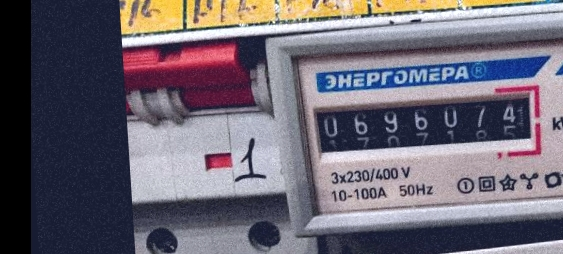0: (320, 112, 341, 137), (442, 103, 460, 129)
4: (500, 99, 517, 122)
5: (503, 124, 519, 140)
6: (413, 104, 432, 132), (352, 110, 371, 135)
7: (472, 102, 491, 128)
9: (382, 108, 400, 134)
screen: (303, 80, 547, 164)
